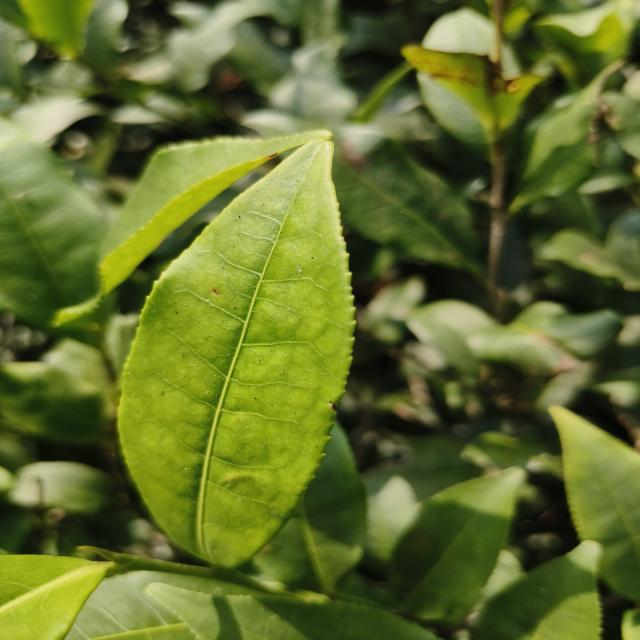Leaf: (119, 141, 354, 567), (100, 130, 331, 295), (332, 122, 479, 272), (0, 120, 106, 326), (390, 467, 526, 624), (255, 423, 366, 592), (549, 406, 640, 600), (147, 583, 428, 640), (471, 541, 601, 640), (168, 0, 275, 90), (0, 555, 110, 640), (0, 362, 104, 443), (269, 41, 356, 128), (510, 141, 594, 213), (417, 71, 487, 151), (8, 461, 112, 514), (422, 8, 493, 55), (244, 109, 310, 137)
